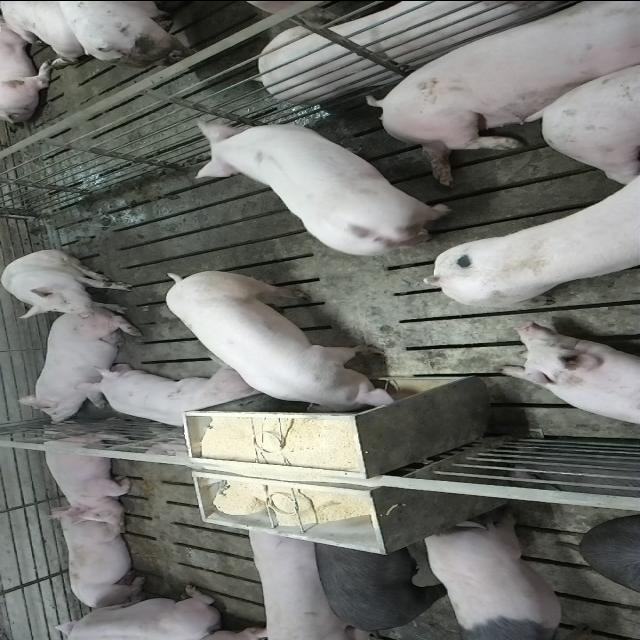Feeding: (164, 272, 402, 421)
Lateral_lying: (367, 3, 640, 185), (254, 0, 584, 102)
Sitting: (2, 249, 137, 319)
Standing: (194, 119, 475, 252), (421, 140, 638, 310), (414, 519, 579, 638), (240, 518, 378, 638), (308, 540, 446, 632)
Sternal_lying: (11, 314, 141, 426), (503, 327, 640, 432), (78, 364, 258, 430), (41, 584, 228, 638), (51, 509, 149, 610), (37, 426, 134, 520)
